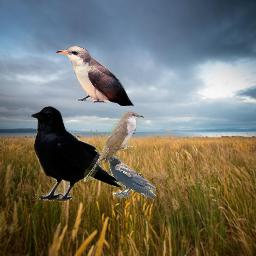Crow: (28, 105, 124, 202), (102, 156, 156, 199)
Cuckoo: (56, 46, 134, 107), (84, 111, 145, 182)
